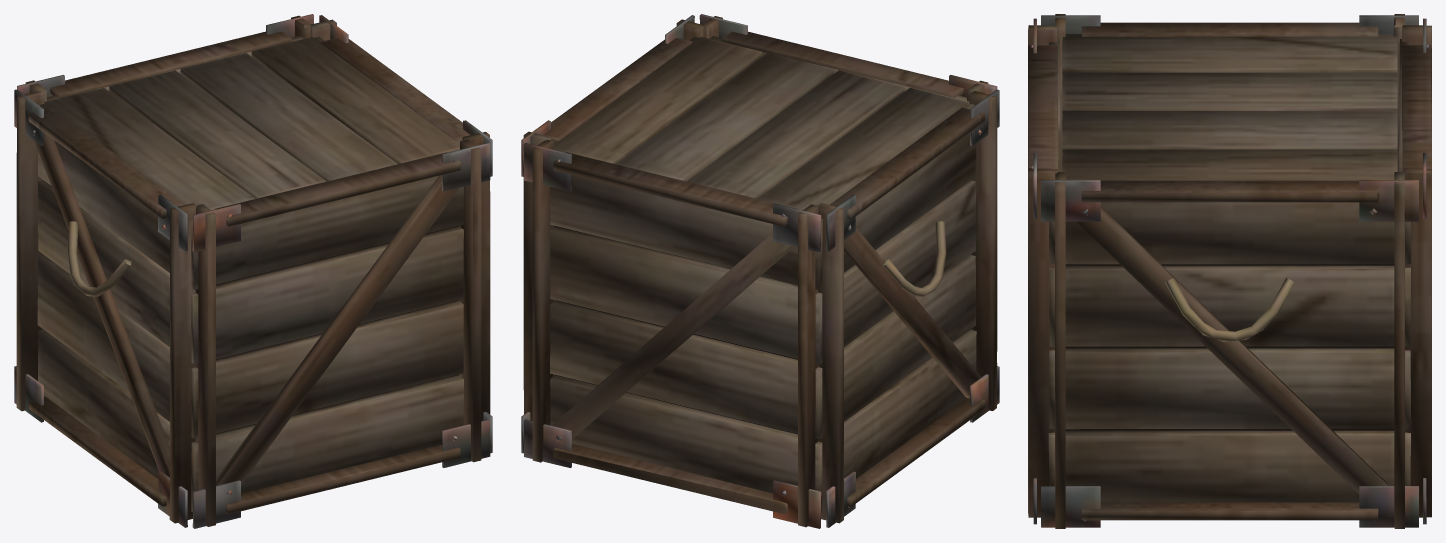
The model's file is crate_lod1.glb.
3 renders of one model, left to right at view 1: azimuth 30°, elevation 25°; view 2: azimuth 150°, elevation 25°; view 3: azimuth 270°, elevation 25°, orthographic. The views are drawn at different scales.
Parts seen in each view (by area): view 1: crate; view 2: crate; view 3: crate.
Boxes of the visible parts, x1,y1,x2,y2 form: crate: (14, 14, 492, 528); crate: (521, 14, 999, 528); crate: (1028, 14, 1431, 528).
Size of the model in its own units: 1.16 by 1.01 by 1.07.
Materials: 1 (1 with a texture image).
